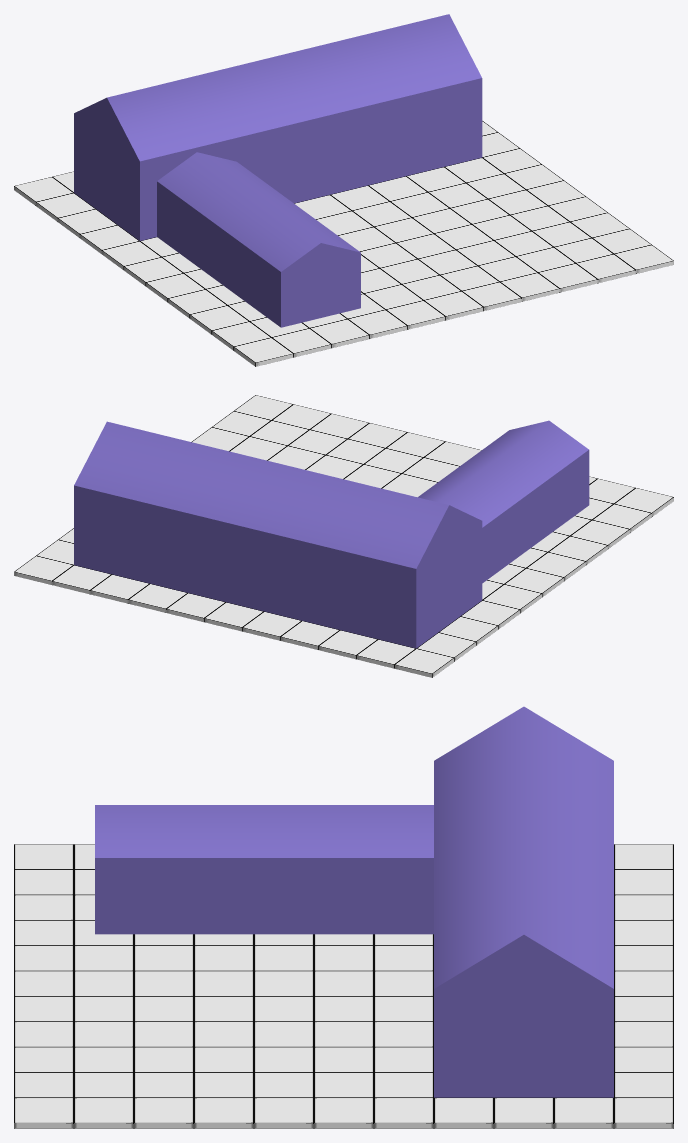
File: XG_Large-house.glb
3 renders of one model, top to bottom at view 1: azimuth 30°, elevation 25°; view 2: azimuth 150°, elevation 25°; view 3: azimuth 270°, elevation 25°, orthographic. The views are drawn at different scales.
Parts seen in each view (by area): view 1: building_9m_3m_004, building_9m_3m_003, 1m_base_block_2448, 1m_base_block_2447, 1m_base_block_2441, 1m_base_block_2443, 1m_base_block_2444, 1m_base_block_2442, 1m_base_block_2445, 1m_base_block_2446, 1m_base_block_2449, 1m_base_block_2450 (+51 smaller); view 2: building_9m_3m_004, building_9m_3m_003, 1m_base_block_2364, 1m_base_block_2358, 1m_base_block_2359, 1m_base_block_2360, 1m_base_block_2357, 1m_base_block_2361, 1m_base_block_2363, 1m_base_block_2365, 1m_base_block_2362, 1m_base_block_2420 (+31 smaller); view 3: building_9m_3m_004, building_9m_3m_003, 1m_base_block_2421, 1m_base_block_2422, 1m_base_block_2423, 1m_base_block_2424, 1m_base_block_2425, 1m_base_block_2426, 1m_base_block_2427, 1m_base_block_2428, 1m_base_block_2429, 1m_base_block_2440 (+63 smaller).
Boxes of the visible parts, box(x1,y1,x2,y2) form: building_9m_3m_004: box(74, 14, 482, 240); building_9m_3m_003: box(157, 152, 360, 327); 1m_base_block_2448: box(233, 337, 293, 366); 1m_base_block_2447: box(272, 328, 331, 357); 1m_base_block_2441: box(462, 282, 521, 310); 1m_base_block_2443: box(386, 300, 445, 329); 1m_base_block_2444: box(348, 309, 407, 338); 1m_base_block_2442: box(424, 291, 483, 320); 1m_base_block_2445: box(310, 319, 369, 347); 1m_base_block_2446: box(500, 272, 559, 301); 1m_base_block_2449: box(538, 263, 597, 292); 1m_base_block_2450: box(576, 254, 635, 283); building_9m_3m_004: box(74, 421, 482, 648); building_9m_3m_003: box(418, 420, 589, 583); 1m_base_block_2364: box(394, 648, 454, 677); 1m_base_block_2358: box(204, 602, 263, 631); 1m_base_block_2359: box(242, 611, 301, 640); 1m_base_block_2360: box(280, 621, 339, 649); 1m_base_block_2357: box(166, 593, 225, 621); 1m_base_block_2361: box(318, 630, 377, 659); 1m_base_block_2363: box(356, 639, 415, 668); 1m_base_block_2365: box(90, 574, 149, 603); 1m_base_block_2362: box(128, 583, 187, 612); 1m_base_block_2420: box(52, 565, 111, 594); building_9m_3m_004: box(434, 706, 613, 1097); building_9m_3m_003: box(95, 805, 433, 934); 1m_base_block_2421: box(494, 1097, 553, 1128); 1m_base_block_2422: box(434, 1097, 493, 1128); 1m_base_block_2423: box(374, 1097, 433, 1128); 1m_base_block_2424: box(314, 1097, 373, 1128); 1m_base_block_2425: box(254, 1097, 313, 1128); 1m_base_block_2426: box(554, 1097, 613, 1128); 1m_base_block_2427: box(194, 1097, 253, 1128); 1m_base_block_2428: box(134, 1097, 193, 1128); 1m_base_block_2429: box(614, 1097, 673, 1128); 1m_base_block_2440: box(74, 1097, 133, 1128).
Bounding box in the file's own units: 11 × 3.1 × 11.
Materials: 2 (1 with a texture image).
